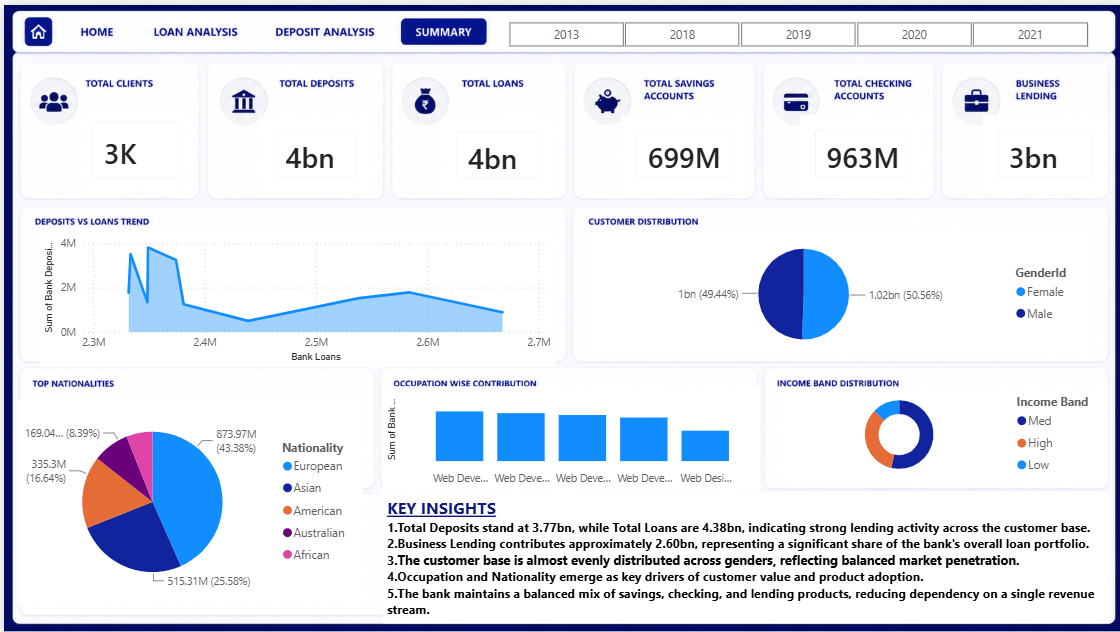

This screenshot's page, from the dashboard's own definition file:
{"tool":"powerbi","page":{"name":"SUMMARY","canvas":[1280,720],"ordinal":3},"visuals":[{"type":"cardVisual","fields":{"Data":["Sum(Banking.Saving Accounts)"]},"box":[705.5,126.4,143.6,89.6],"z":0},{"type":"cardVisual","fields":{"Data":["Banking.Total Loan"]},"box":[500.6,127.6,128.8,89.6],"z":1000},{"type":"cardVisual","fields":{"Data":["Banking.Total Deposit"]},"box":[290.8,126.4,128.8,89.6],"z":2000},{"type":"cardVisual","fields":{"Data":["Sum(Banking.Checking Accounts)"]},"box":[910.4,126.4,143.6,89.6],"z":3000},{"type":"cardVisual","fields":{"Data":["Sum(Banking.Business Lending)"]},"box":[1119,126.4,143.6,89.6],"z":4000},{"type":"cardVisual","fields":{"Data":["Count(Banking.Client ID)"]},"box":[84.7,117.8,133.7,99.4],"z":5000},{"type":"donutChart","fields":{"Category":["Banking.Income Band"],"Y":["Sum(Banking.Estimated Income)"]},"box":[884.7,436.8,377.9,108],"z":6000},{"type":"clusteredColumnChart","fields":{"Category":["Banking.Occupation"],"Y":["Sum(Banking.Bank Deposits)"]},"box":[432.2,436.4,430.9,120.8],"z":7000},{"type":"pieChart","fields":{"Category":["Banking.Nationality"],"Y":["Sum(Banking.Bank Deposits)"]},"box":[17.8,451.5,392.5,233.3],"z":8000},{"type":"stackedAreaChart","fields":{"Category":["Banking.Bank Loans"],"Y":["Sum(Banking.Bank Deposits)"]},"box":[41.2,258,588.7,155.1],"z":9000},{"type":"pieChart","fields":{"Category":["Banking.GenderId"],"Y":["Sum(Banking.Bank Deposits)"]},"box":[666.9,259.3,570.8,141.3],"z":10000},{"type":"textbox","box":[432.2,557.1,830.2,149.6],"z":11000},{"type":"actionButton","box":[451.5,12.3,100.2,35.7],"z":12000},{"type":"slicer","fields":{"Values":["Banking.Year of JoiN"]},"box":[551.6,12.3,710.8,41.2],"z":13000},{"type":"actionButton","box":[17.1,10,145.7,40],"z":14000},{"type":"actionButton","box":[162.9,8.6,118.6,40],"z":15000},{"type":"actionButton","box":[305.7,10,114.3,40],"z":16000}]}

Visuals, with their boxes in screenshot pixels (x1, y1, x2, y2), scaled from the page's 1280x720 canvas onto the 1120x632 screenshot:
cardVisual - Sum(Banking.Saving Accounts): {"left": 617, "top": 111, "right": 743, "bottom": 190}
cardVisual - Banking.Total Loan: {"left": 438, "top": 112, "right": 551, "bottom": 191}
cardVisual - Banking.Total Deposit: {"left": 254, "top": 111, "right": 367, "bottom": 190}
cardVisual - Sum(Banking.Checking Accounts): {"left": 797, "top": 111, "right": 922, "bottom": 190}
cardVisual - Sum(Banking.Business Lending): {"left": 979, "top": 111, "right": 1105, "bottom": 190}
cardVisual - Count(Banking.Client ID): {"left": 74, "top": 103, "right": 191, "bottom": 191}
donutChart - Banking.Income Band x Sum(Banking.Estimated Income): {"left": 774, "top": 383, "right": 1105, "bottom": 478}
clusteredColumnChart - Banking.Occupation x Sum(Banking.Bank Deposits): {"left": 378, "top": 383, "right": 755, "bottom": 489}
pieChart - Banking.Nationality x Sum(Banking.Bank Deposits): {"left": 16, "top": 396, "right": 359, "bottom": 601}
stackedAreaChart - Banking.Bank Loans x Sum(Banking.Bank Deposits): {"left": 36, "top": 226, "right": 551, "bottom": 363}
pieChart - Banking.GenderId x Sum(Banking.Bank Deposits): {"left": 584, "top": 228, "right": 1083, "bottom": 352}
textbox: {"left": 378, "top": 489, "right": 1105, "bottom": 620}
actionButton: {"left": 395, "top": 11, "right": 483, "bottom": 42}
slicer - Banking.Year of JoiN: {"left": 483, "top": 11, "right": 1105, "bottom": 47}
actionButton: {"left": 15, "top": 9, "right": 142, "bottom": 44}
actionButton: {"left": 143, "top": 8, "right": 246, "bottom": 43}
actionButton: {"left": 267, "top": 9, "right": 368, "bottom": 44}
